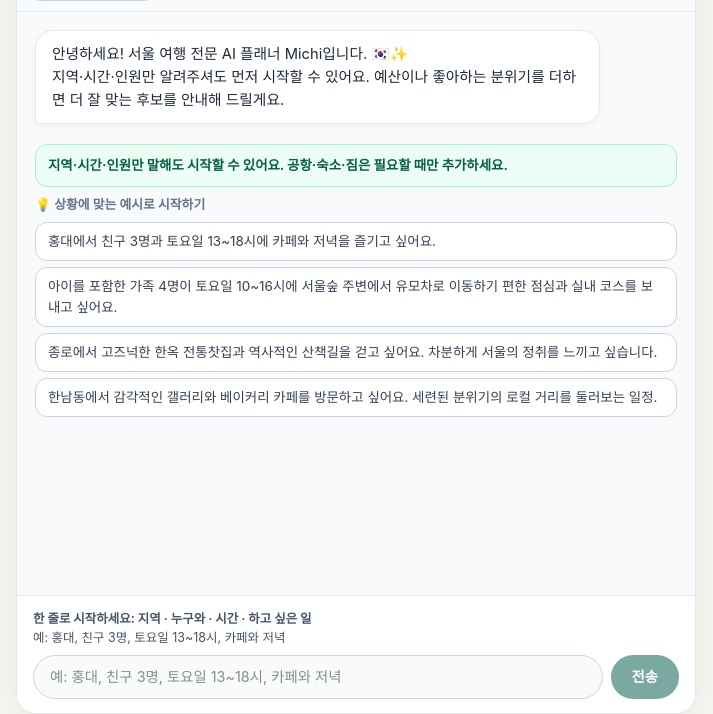
it: GenerativeChatPlanner › sends the requested response language for 日本語で答えてください。弘大で昼食
This screenshot has width=713, height=714.
(page scrolled)
Type "日本語で答えてください。弘大で昼食" into the field at (318, 677), box x1=33 y1=655 x2=602 y2=699
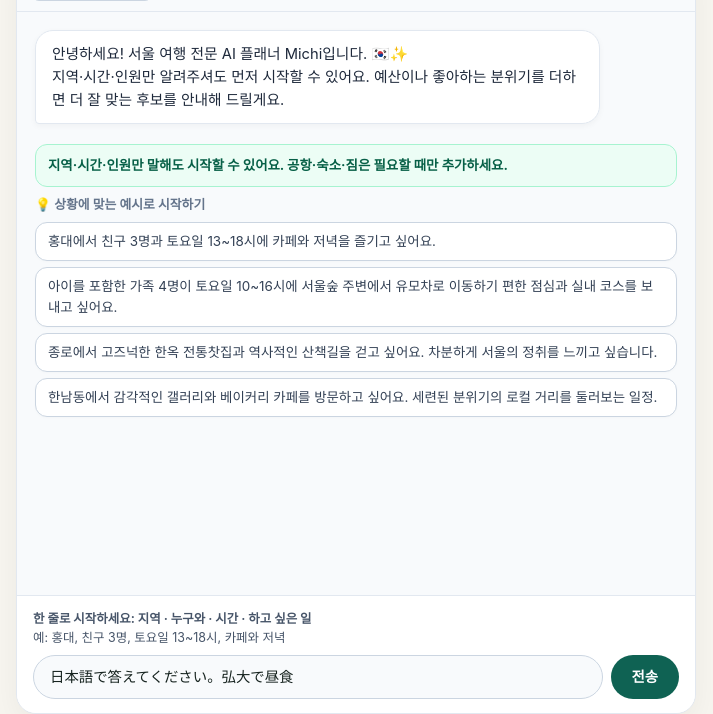
Click the button "전송" at (645, 677), box x1=610 y1=655 x2=679 y2=699
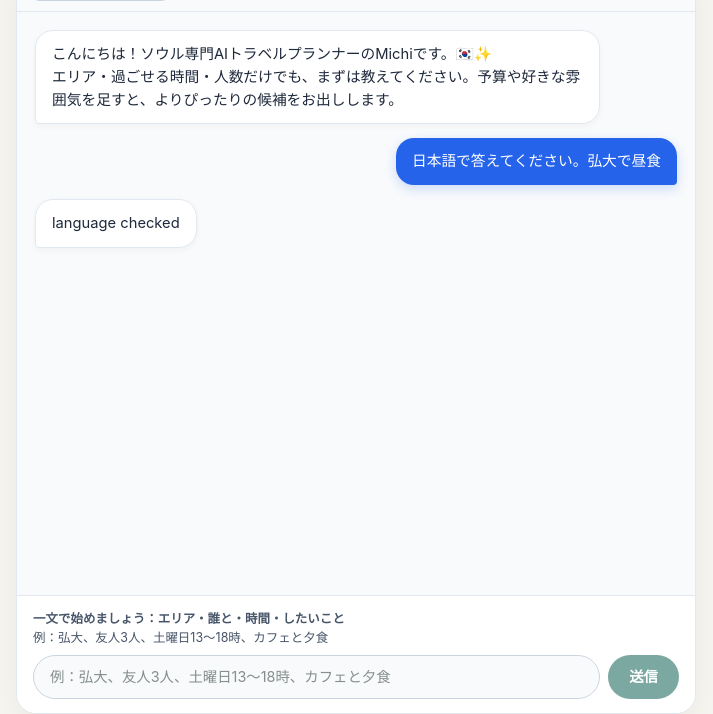
Expected: the text "language checked" is shown, x1=35 y1=199 x2=197 y2=248
